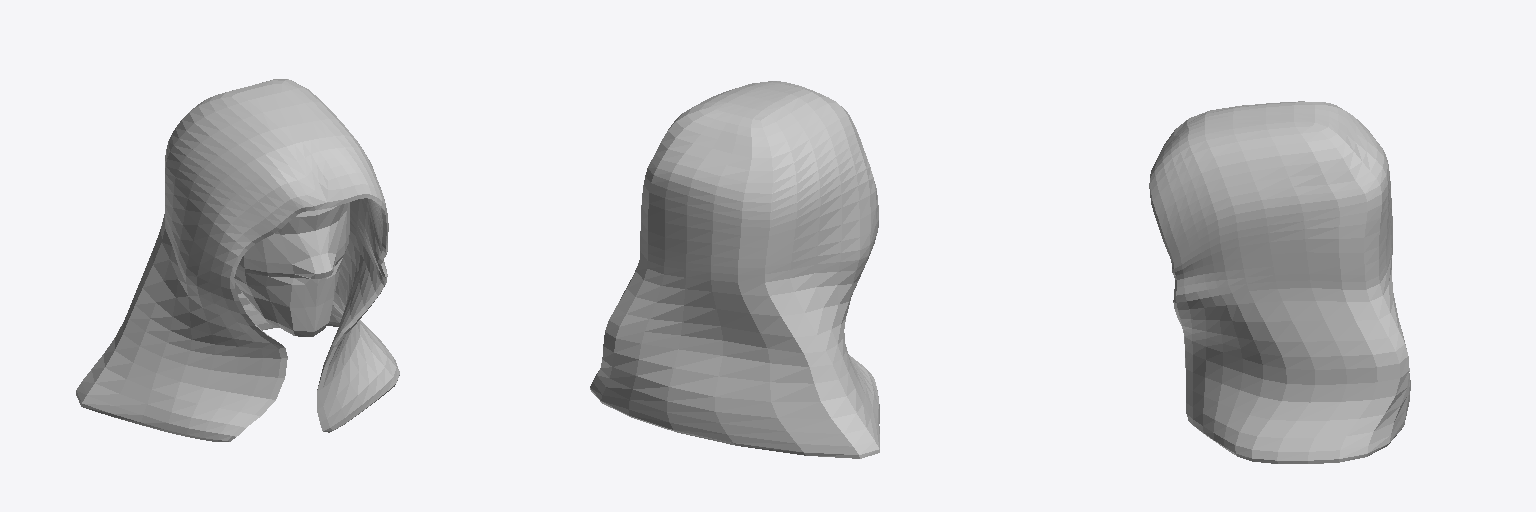
File: tarothood2.obj
3 views of the same model, side by side, from view 1: azimuth 30°, elevation 25°; view 2: azimuth 150°, elevation 25°; view 3: azimuth 270°, elevation 25° (orthographic).
Visible parts, largest first — view 1: Plane, Sphere; view 2: Plane; view 3: Plane.
Boxes of the visible parts, x1,y1,x2,y2 form: Plane: [76, 79, 399, 441]; Sphere: [234, 202, 349, 336]; Plane: [590, 81, 879, 458]; Plane: [1149, 101, 1410, 463].
Bounding box in the file's own units: 3 × 3.02 × 2.37.